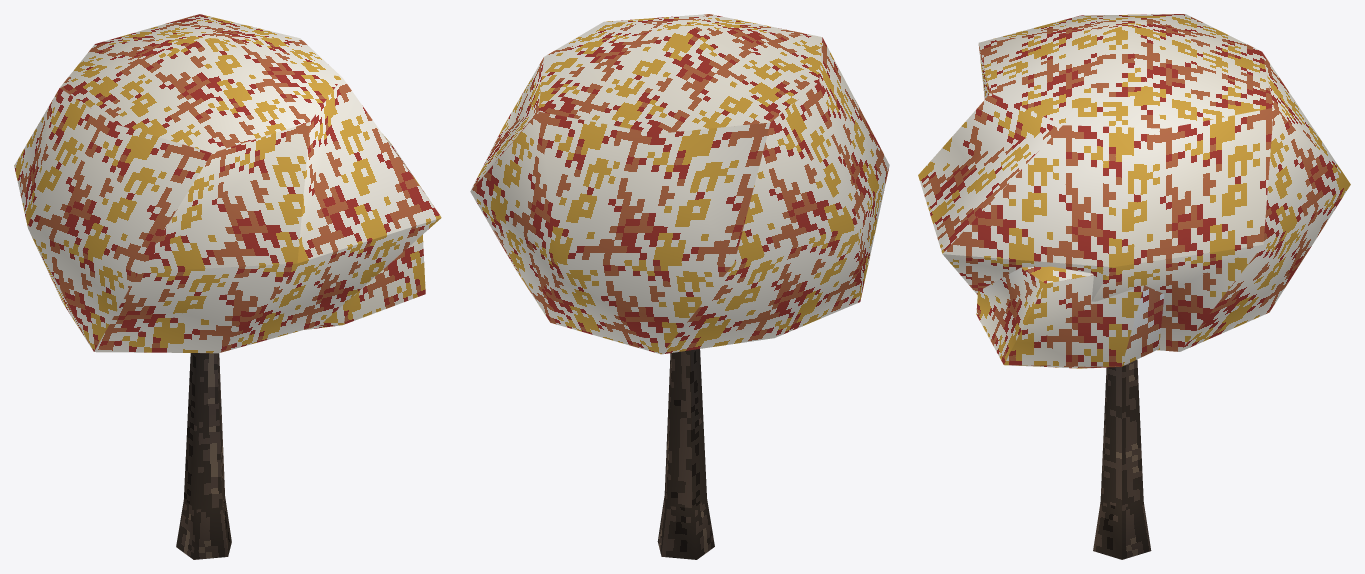
Rendered from mnat.orchard__blossom.glb.
3 renders of one model, left to right at view 1: azimuth 30°, elevation 25°; view 2: azimuth 150°, elevation 25°; view 3: azimuth 270°, elevation 25°, orthographic. The views are drawn at different scales.
Visible parts, largest first — view 1: kit_crown, kit_trunk; view 2: kit_crown, kit_trunk; view 3: kit_crown, kit_trunk.
Part boxes in pixels (x1,y1,x2,y2): kit_crown: [14, 14, 441, 353]; kit_trunk: [176, 353, 231, 559]; kit_crown: [470, 14, 889, 354]; kit_trunk: [657, 349, 714, 559]; kit_crown: [918, 14, 1350, 368]; kit_trunk: [1093, 359, 1151, 559].
Size of the model in its own units: 3.14 by 4.3 by 3.24.
Materials: 2 (2 with a texture image).
